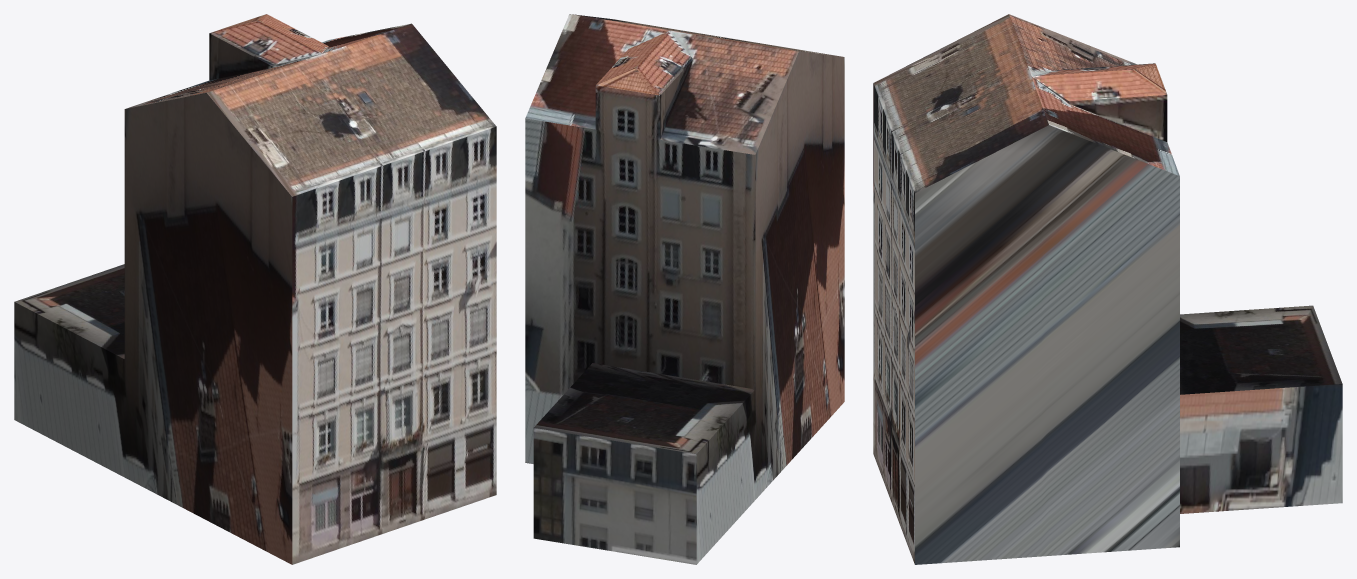
3 views of the same model, side by side, from view 1: azimuth 30°, elevation 25°; view 2: azimuth 150°, elevation 25°; view 3: azimuth 270°, elevation 25° (orthographic). The views are drawn at different scales.
Parts seen in each view (by area): view 1: Z_UP; view 2: Z_UP; view 3: Z_UP.
Part boxes in pixels (<box>): Z_UP: <box>14,14,496,564</box>; Z_UP: <box>525,14,844,564</box>; Z_UP: <box>873,14,1342,564</box>.
Size of the model in its own units: 19.03 by 27.29 by 26.91.
Materials: 2 (1 with a texture image).
